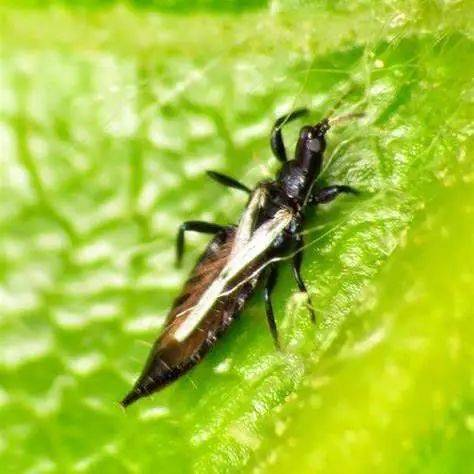Phlaeothripidae: (113, 96, 369, 413)
